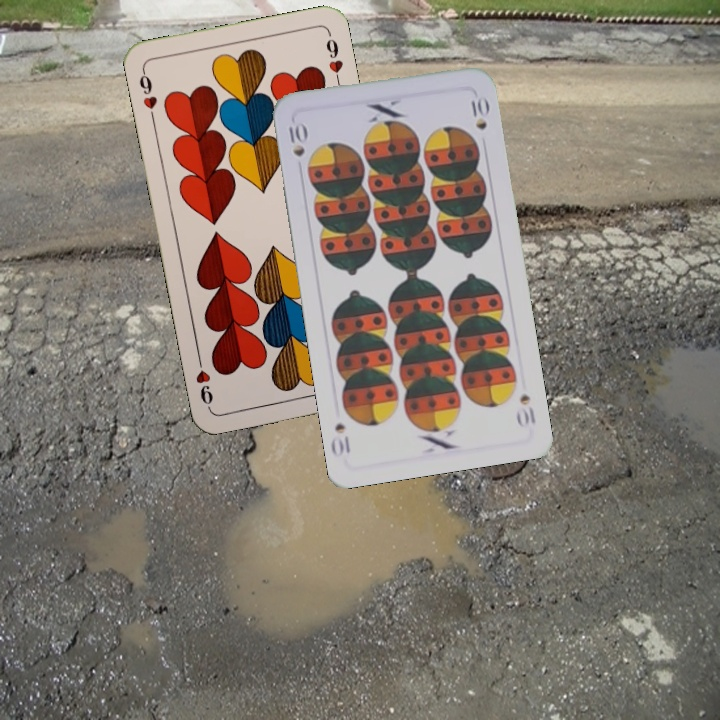H9: (135, 65, 160, 124)
S10: (283, 118, 309, 159), (513, 389, 538, 430)
